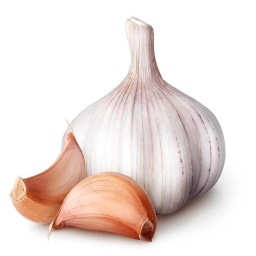Knoblauch: (60, 15, 226, 215), (8, 119, 87, 224), (47, 171, 157, 242)
